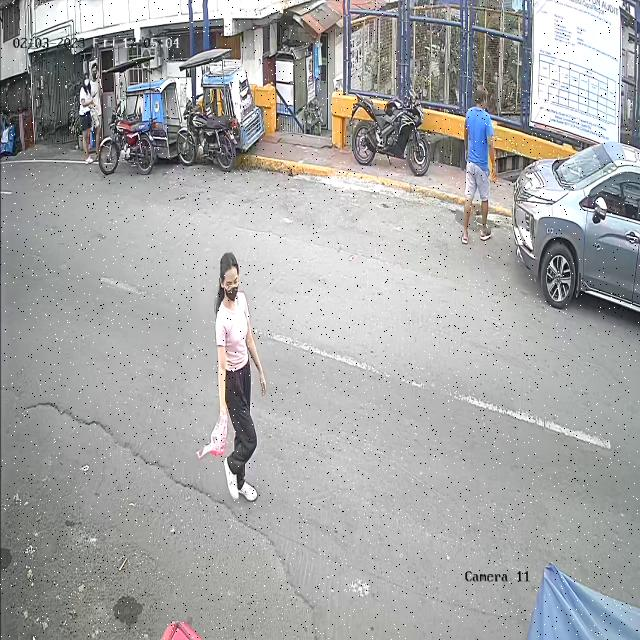human: (210, 251, 267, 502)
trash: (205, 400, 229, 462)
